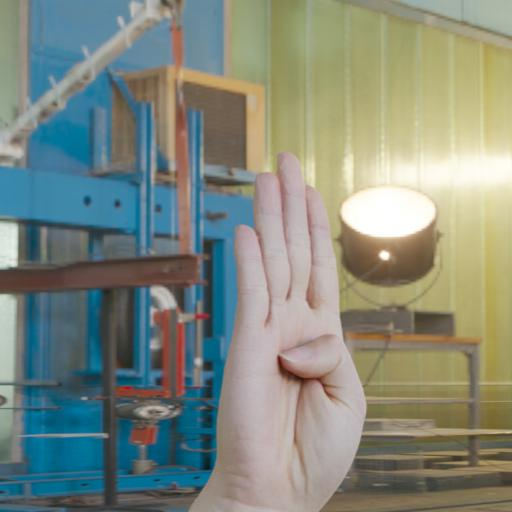B: (207, 147, 374, 512)
